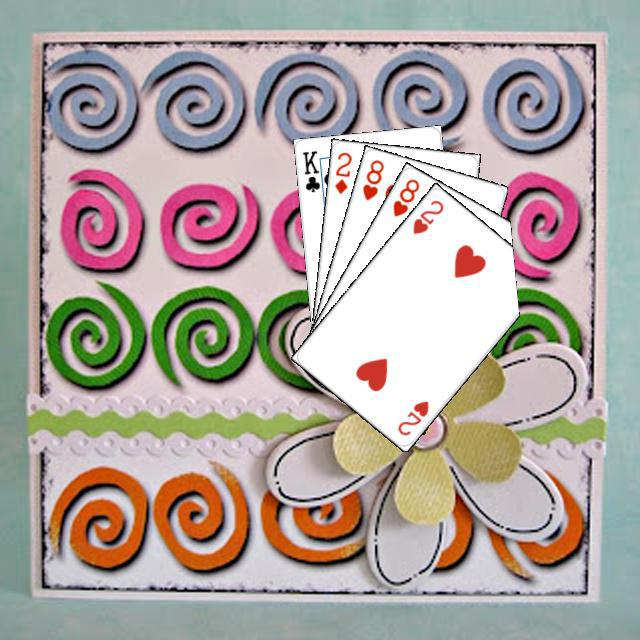2d: (330, 147, 353, 196)
2h: (392, 396, 431, 437), (407, 195, 445, 236)
8h: (388, 174, 421, 218), (357, 155, 386, 202)
Kc: (297, 146, 326, 197)
